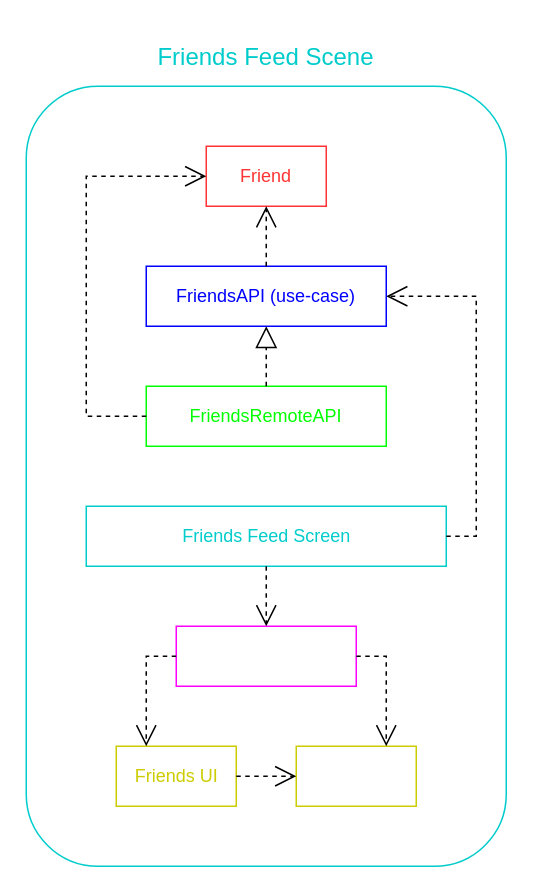
Image size: 533x893. Some labels were removed from this diagram. The centre of each missing label's shape, as x and y in pixels:
Friends Container: (x=265, y=655)
Friends Data: (x=355, y=775)
